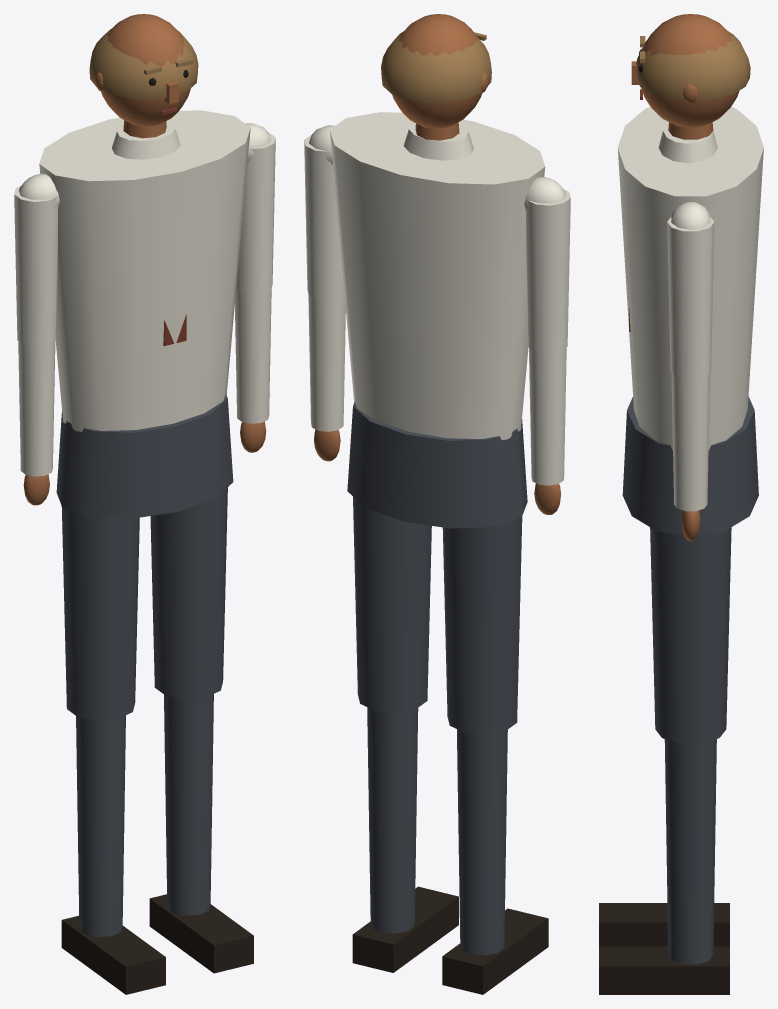
File: person-1970s.glb
The picture shows the model from 3 angles, left to right: view 1: azimuth 30°, elevation 25°; view 2: azimuth 150°, elevation 25°; view 3: azimuth 270°, elevation 25°; orthographic projection.
Visible parts, largest first — view 1: spine, hips, shinR, shinL, thighL, thighR, neck, upperArmL, forearmL, forearmR, upperArmR, shoulderL; view 2: spine, hips, thighL, shinR, shinL, thighR, neck, upperArmL, forearmL, forearmR, upperArmR, shoulderL; view 3: spine, shinR, thighR, neck, hips, upperArmR, forearmR, shinL, shoulderR.
Boxes of the visible parts, x1,y1,x2,y2 form: spine: [39, 110, 250, 431]; hips: [56, 394, 233, 518]; shinR: [149, 694, 253, 973]; shinL: [61, 715, 165, 994]; thighL: [61, 506, 139, 720]; thighR: [150, 487, 227, 699]; neck: [89, 14, 198, 138]; upperArmL: [14, 186, 57, 346]; forearmL: [18, 341, 55, 505]; forearmR: [235, 289, 271, 452]; upperArmR: [236, 132, 275, 293]; shoulderL: [19, 174, 59, 207]; spine: [329, 112, 545, 440]; hips: [347, 401, 527, 528]; thighL: [442, 516, 522, 734]; shinR: [352, 707, 458, 972]; shinL: [442, 729, 548, 994]; thighR: [353, 497, 431, 712]; neck: [381, 14, 491, 140]; upperArmL: [526, 189, 570, 353]; forearmL: [529, 347, 566, 514]; forearmR: [308, 294, 345, 461]; upperArmR: [304, 134, 344, 299]; shoulderL: [524, 177, 565, 211]; spine: [617, 107, 763, 450]; shinR: [599, 739, 729, 994]; thighR: [650, 527, 731, 743]; neck: [631, 14, 750, 139]; hips: [622, 397, 758, 535]; upperArmR: [667, 217, 714, 378]; forearmR: [671, 372, 710, 541]; shinL: [599, 903, 729, 946]; shoulderR: [671, 202, 710, 229].
Bounding box in the file's own units: 0.5707 × 1.99 × 0.3144.
